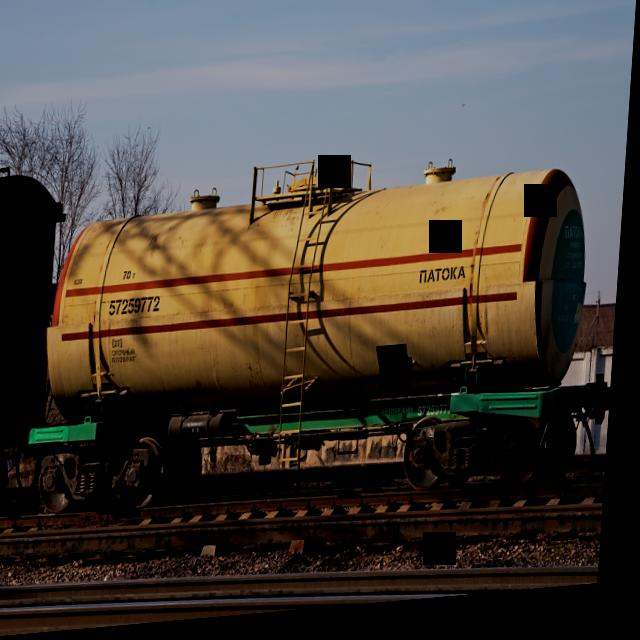boxcar: (0, 138, 76, 544)
tank: (37, 134, 631, 522)
